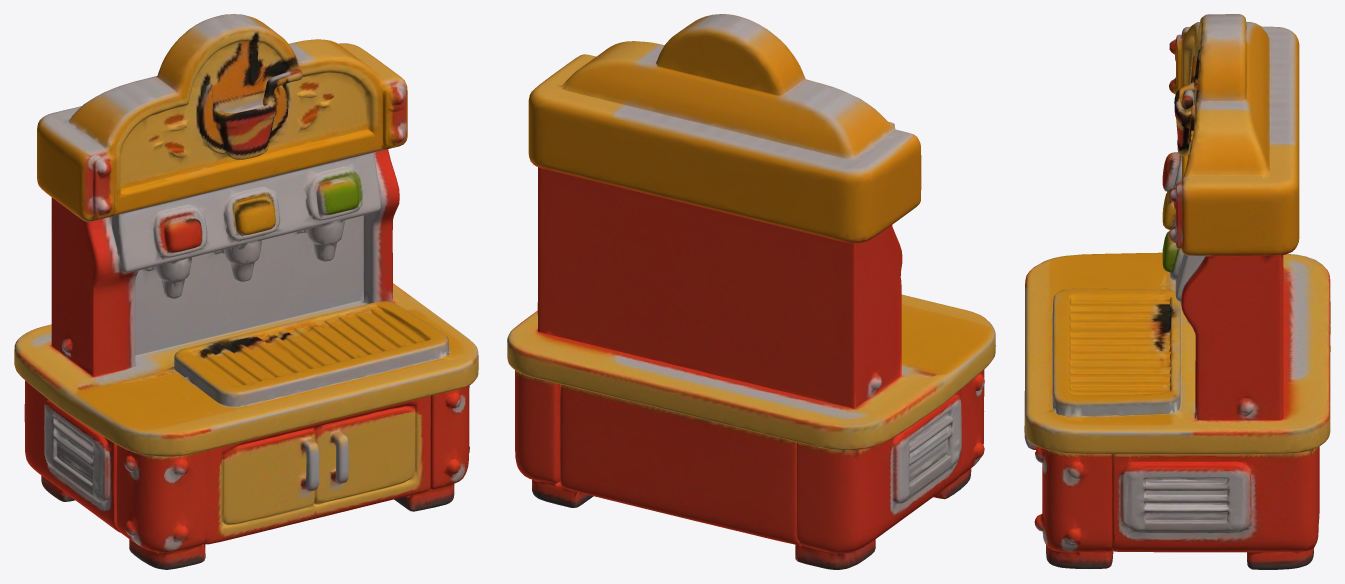
File: maquina de bebidas.glb
3 renders of one model, left to right at view 1: azimuth 30°, elevation 25°; view 2: azimuth 150°, elevation 25°; view 3: azimuth 270°, elevation 25°, orthographic. The views are drawn at different scales.
Visible parts, largest first — view 1: tripo_node_1d23fb6c-2747-4dbf-93bd-16b050f9350f; view 2: tripo_node_1d23fb6c-2747-4dbf-93bd-16b050f9350f; view 3: tripo_node_1d23fb6c-2747-4dbf-93bd-16b050f9350f.
Boxes of the visible parts, <box> form: tripo_node_1d23fb6c-2747-4dbf-93bd-16b050f9350f: <box>14,14,478,569</box>; tripo_node_1d23fb6c-2747-4dbf-93bd-16b050f9350f: <box>507,14,995,569</box>; tripo_node_1d23fb6c-2747-4dbf-93bd-16b050f9350f: <box>1024,14,1330,569</box>.
Bounding box in the file's own units: 0.8245 × 1 × 0.5863.
1 material, 1 textured.
